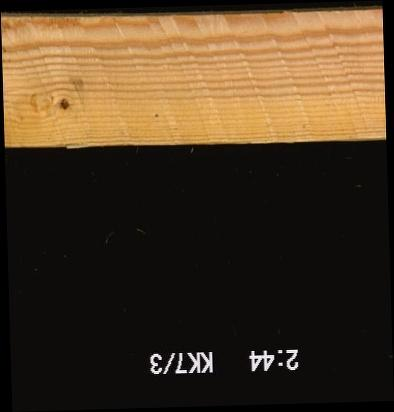dry_knot: (52, 94, 75, 116)
